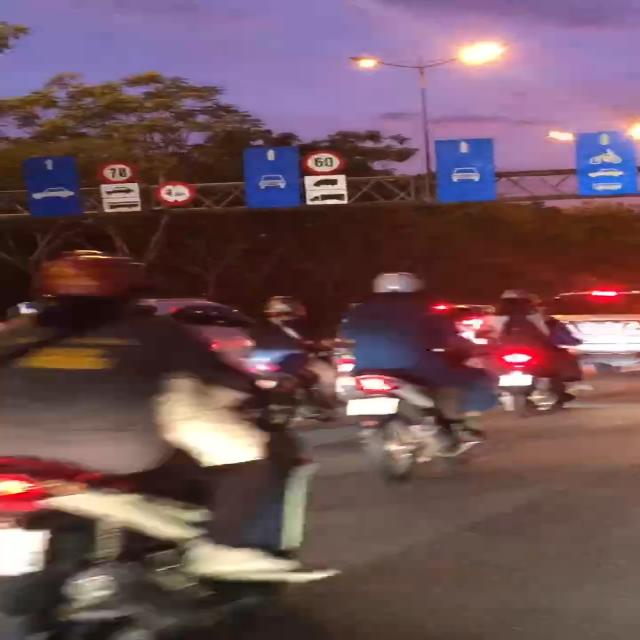Bien bao toc do toi da cho phep: (302, 148, 346, 176), (96, 160, 138, 185)
